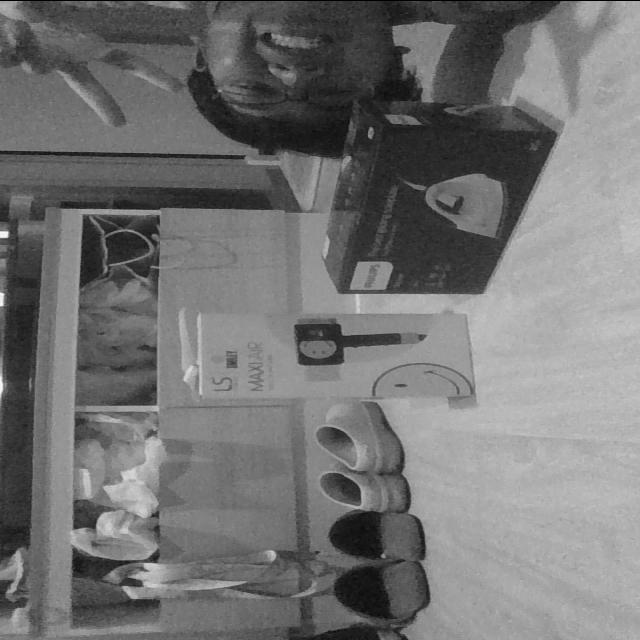Dryer: (178, 307, 476, 403)
IRON: (315, 95, 561, 297)
